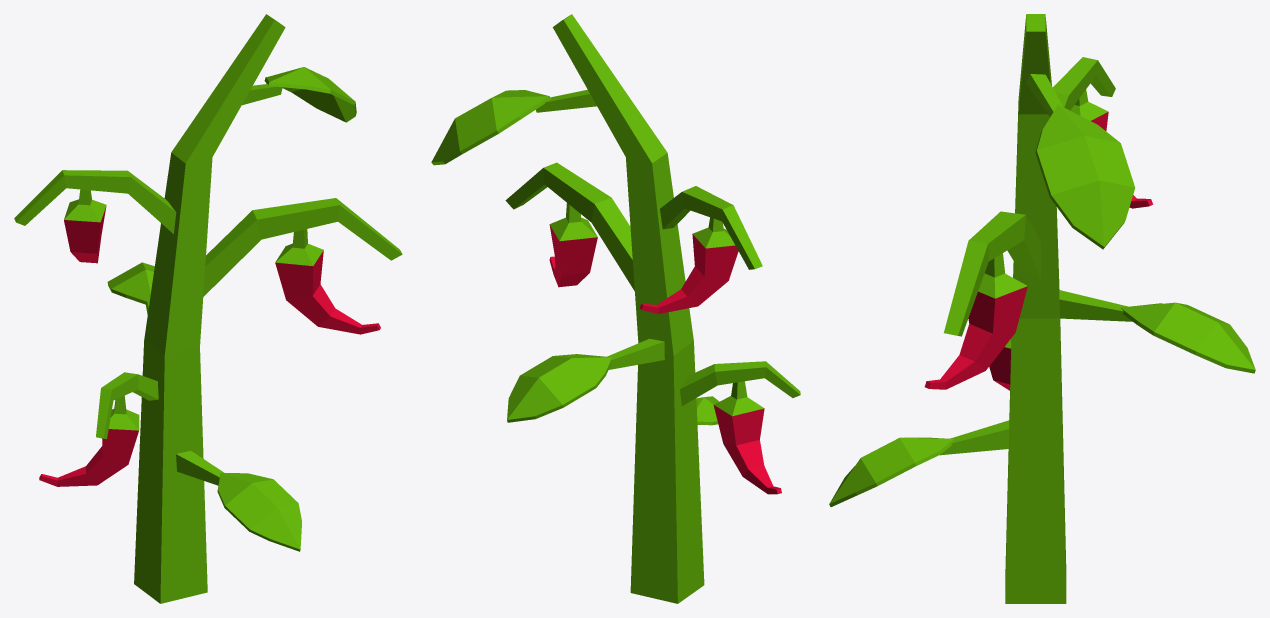
Rendered from pepper_mature.fbx.
3 renders of one model, left to right at view 1: azimuth 30°, elevation 25°; view 2: azimuth 150°, elevation 25°; view 3: azimuth 270°, elevation 25°, orthographic. The views are drawn at different scales.
Parts seen in each view (by area): view 1: pepper_mature; view 2: pepper_mature; view 3: pepper_mature.
Boxes of the visible parts, <box> form: pepper_mature: <box>14,14,402,603</box>; pepper_mature: <box>431,14,800,603</box>; pepper_mature: <box>829,14,1255,603</box>.
Bounding box in the file's own units: 183 × 288 × 176.
